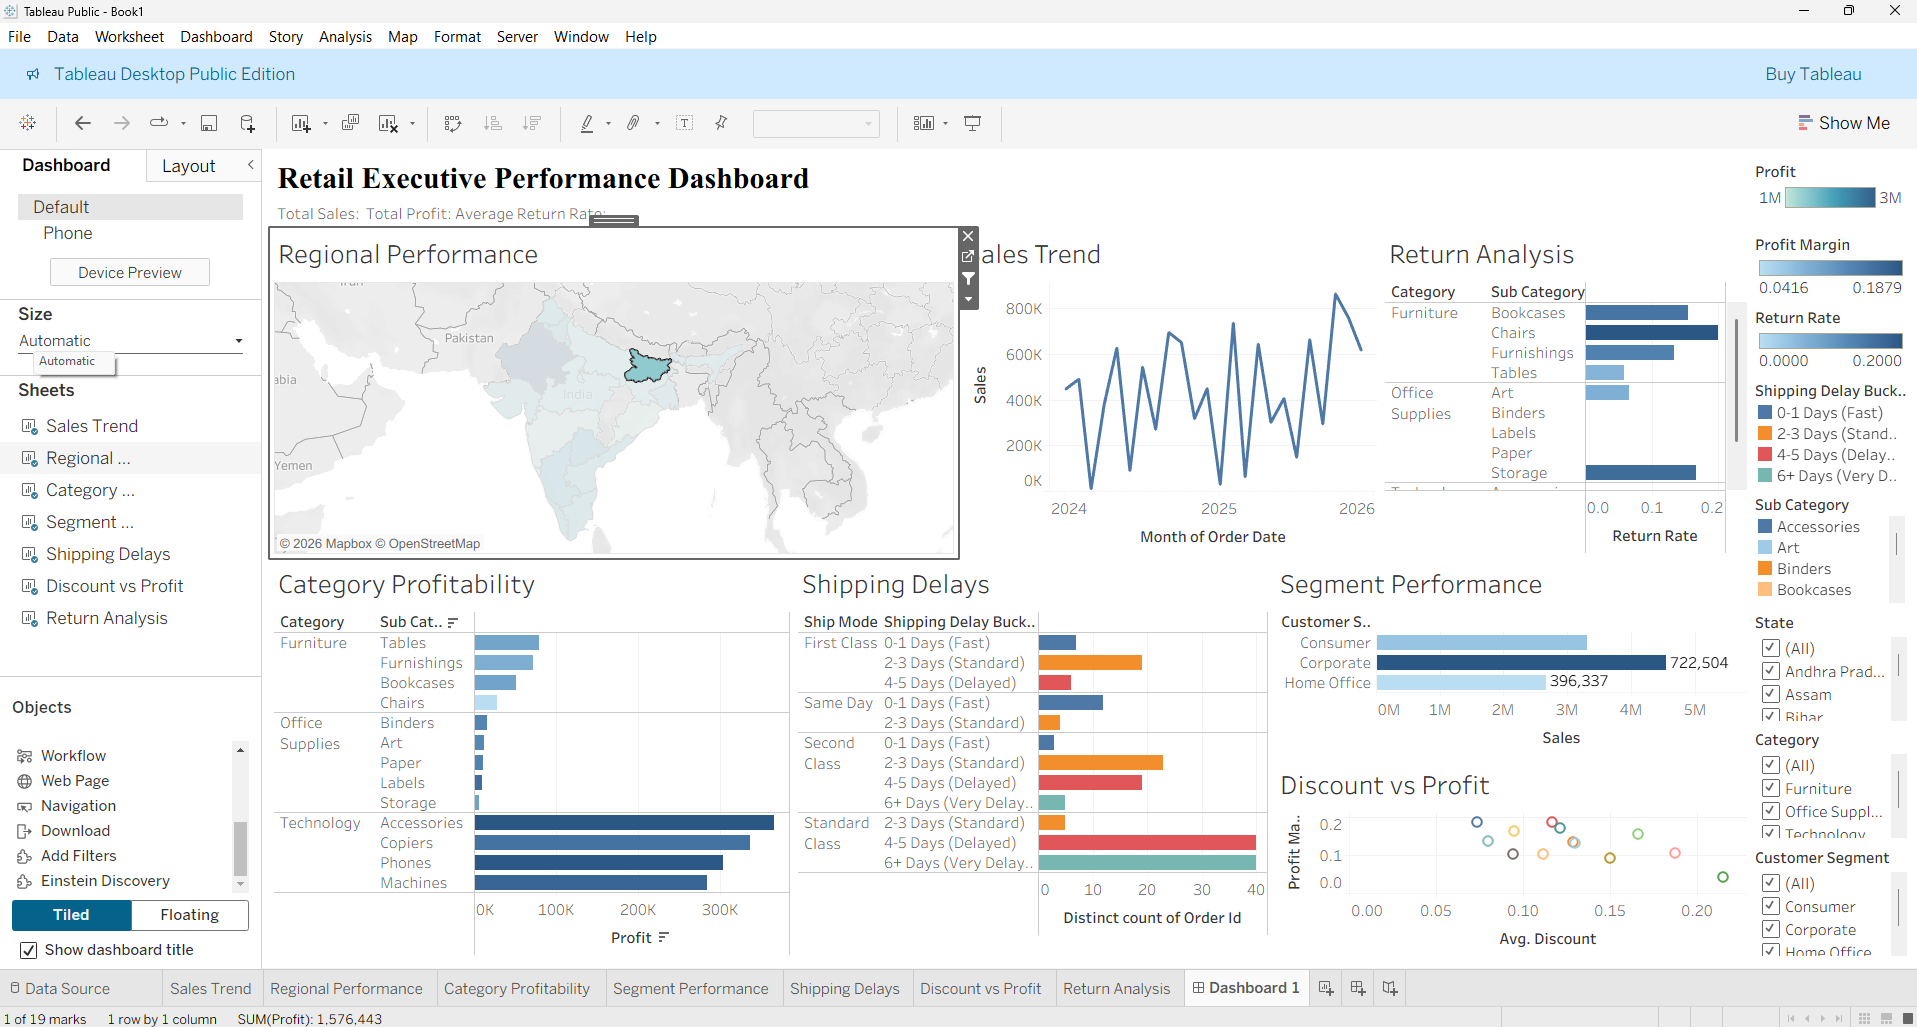

The dashboard page shown, as its layout file describes it:
{"tool":"tableau","page":{"name":"Dashboard 1","canvas":[1000,1000],"units":"permille","ordinal":0},"visuals":[{"type":"title","box":[4.8,9.8,893.8,51.3]},{"type":"legend","title":"Regional Performance","param":"[federated.0l5ym8q07uuu3b1bzoyn909gm2qx].[sum:profit:qk]","box":[898.6,9.8,96.6,89.1]},{"type":"text","box":[4.8,61.1,893.8,35.4]},{"type":"worksheet","title":"Regional Performance","mark":"Automatic","box":[4.8,96.5,415.2,402.9]},{"type":"worksheet","title":"Sales Trend","mark":"Automatic","rows":["sales"],"cols":["order_date"],"box":[420,96.5,255.1,402.9]},{"type":"worksheet","title":"Return Analysis","mark":"Automatic","rows":["category","sub_category"],"cols":["Calculation_0669894897504259"],"box":[675.1,96.5,223.5,402.9]},{"type":"legend","title":"Category Profitability","param":"[federated.0l5ym8q07uuu3b1bzoyn909gm2qx].[usr:Calculation_0669894896877568:qk]","box":[898.6,98.9,96.6,89.1]},{"type":"legend","title":"Return Analysis","param":"[federated.0l5ym8q07uuu3b1bzoyn909gm2qx].[usr:Calculation_0669894897504259:qk]","box":[898.6,188.1,96.6,89.1]},{"type":"legend","title":"Shipping Delays","param":"[federated.0l5ym8q07uuu3b1bzoyn909gm2qx].[none:Calculation_0669894897598468:nk]","box":[898.6,277.2,96.6,139.2]},{"type":"legend","title":"Discount vs Profit","param":"[federated.0l5ym8q07uuu3b1bzoyn909gm2qx].[none:sub_category:nk]","box":[898.6,416.4,96.6,143.5]},{"type":"worksheet","title":"Category Profitability","mark":"Automatic","rows":["category","sub_category"],"cols":["profit"],"box":[4.8,499.3,316.2,490.9]},{"type":"worksheet","title":"Shipping Delays","mark":"Automatic","rows":["ship_mode","Calculation_0669894897598468"],"cols":["order_id"],"box":[321,499.3,288.8,490.9]},{"type":"worksheet","title":"Segment Performance","mark":"Automatic","rows":["customer_segment"],"cols":["sales"],"box":[609.8,499.3,288.8,245.4]},{"type":"filter","title":"Regional Performance","param":"[federated.0l5ym8q07uuu3b1bzoyn909gm2qx].[none:state:nk]","box":[898.6,559.9,96.6,143.5]},{"type":"filter","title":"Category Profitability","param":"[federated.0l5ym8q07uuu3b1bzoyn909gm2qx].[none:category:nk]","box":[898.6,703.3,96.6,143.5]},{"type":"worksheet","title":"Discount vs Profit","mark":"Automatic","rows":["Calculation_0669894896877568"],"cols":["discount"],"box":[609.8,744.8,288.8,245.5]},{"type":"filter","title":"Segment Performance","param":"[federated.0l5ym8q07uuu3b1bzoyn909gm2qx].[none:customer_segment:nk]","box":[898.6,846.8,96.6,143.5]}]}

Visuals, with their boxes on the dashboard's canvas, which has no fixed pixel size, in thousandths of its width and height (x1, y1, x2, y2). These are canvas units, not pixel positions in the 1917x1027 screenshot, which may show the page scaled, cropped or inside an application window:
title: (left=5, top=10, right=899, bottom=61)
"Regional Performance" legend: (left=899, top=10, right=995, bottom=99)
text: (left=5, top=61, right=899, bottom=96)
"Regional Performance" worksheet: (left=5, top=96, right=420, bottom=499)
"Sales Trend" worksheet: (left=420, top=96, right=675, bottom=499)
"Return Analysis" worksheet: (left=675, top=96, right=899, bottom=499)
"Category Profitability" legend: (left=899, top=99, right=995, bottom=188)
"Return Analysis" legend: (left=899, top=188, right=995, bottom=277)
"Shipping Delays" legend: (left=899, top=277, right=995, bottom=416)
"Discount vs Profit" legend: (left=899, top=416, right=995, bottom=560)
"Category Profitability" worksheet: (left=5, top=499, right=321, bottom=990)
"Shipping Delays" worksheet: (left=321, top=499, right=610, bottom=990)
"Segment Performance" worksheet: (left=610, top=499, right=899, bottom=745)
"Regional Performance" filter: (left=899, top=560, right=995, bottom=703)
"Category Profitability" filter: (left=899, top=703, right=995, bottom=847)
"Discount vs Profit" worksheet: (left=610, top=745, right=899, bottom=990)
"Segment Performance" filter: (left=899, top=847, right=995, bottom=990)
